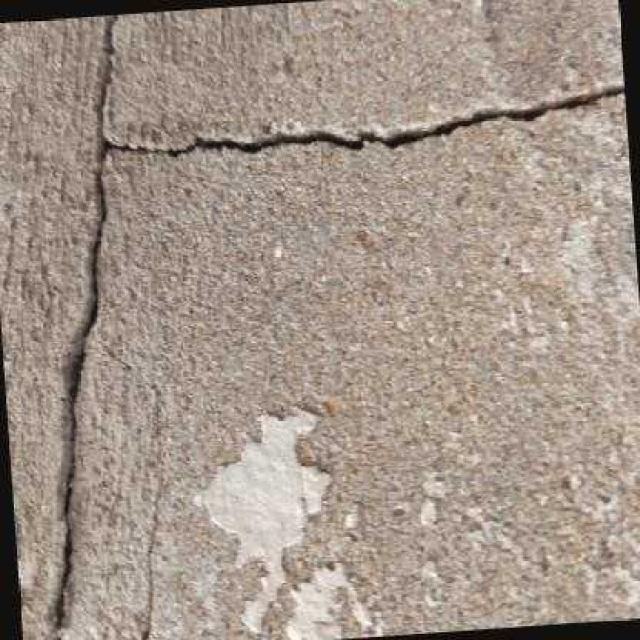D00: (46, 13, 625, 640)
